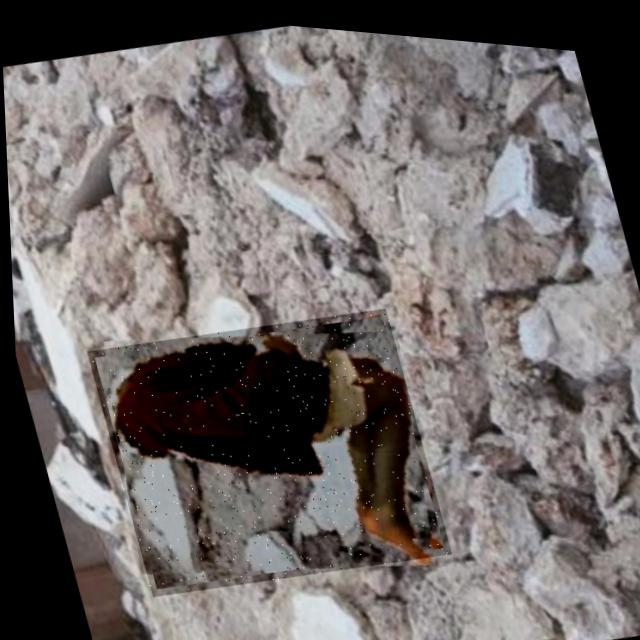Person in Rubble: (80, 279, 449, 614)
